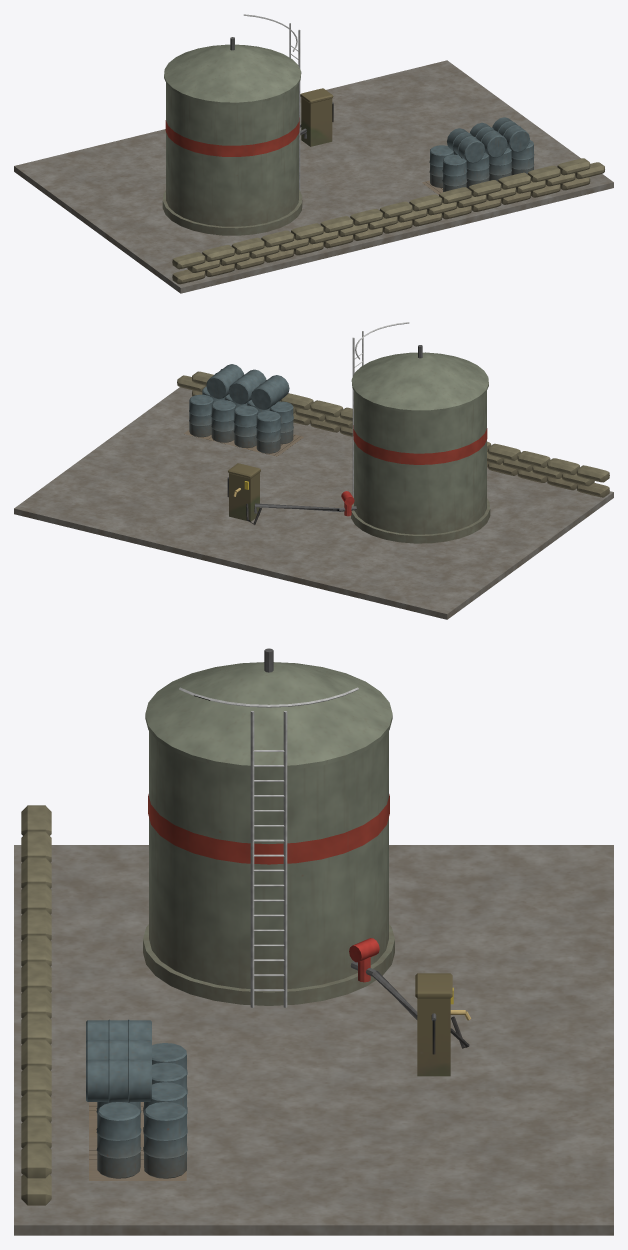
File: fuel_depot.glb
The picture shows the model from 3 angles, top to bottom: view 1: azimuth 30°, elevation 25°; view 2: azimuth 150°, elevation 25°; view 3: azimuth 270°, elevation 25°; orthographic projection. The views are drawn at different scales.
Visible parts, largest first — view 1: depot, sandbags, drum_stack; view 2: depot, drum_stack, sandbags; view 3: depot, drum_stack, sandbags.
Boxes of the visible parts, x1,y1,x2,y2 form: depot: (14, 14, 613, 293); sandbags: (172, 158, 604, 284); drum_stack: (422, 117, 534, 194); depot: (14, 322, 613, 619); drum_stack: (183, 364, 303, 456); sandbags: (177, 371, 609, 497); depot: (14, 648, 613, 1235); drum_stack: (86, 1019, 187, 1180); sandbags: (21, 805, 51, 1205).
Bounding box in the file's own units: 12 × 4.6 × 8.
1 material, 1 textured.
